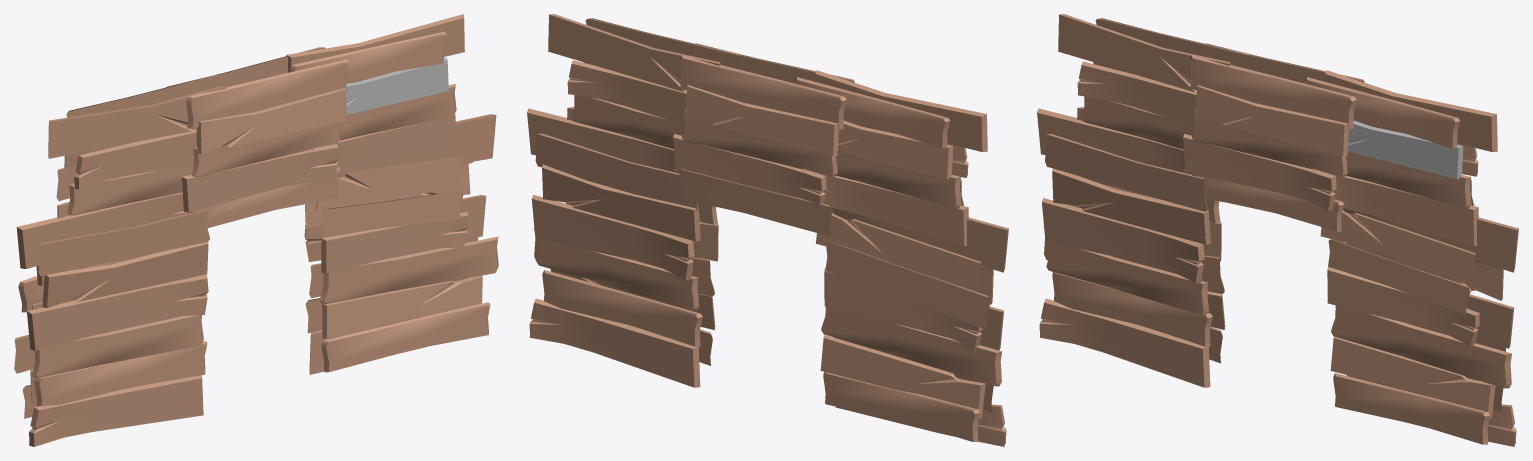
Rendered from ACT3_EntranceWall_fin.fbx.
3 renders of one model, left to right at view 1: azimuth 30°, elevation 25°; view 2: azimuth 150°, elevation 25°; view 3: azimuth 330°, elevation 25°, orthographic. The views are drawn at different scales.
Parts seen in each view (by area): view 1: Flank_Curve19, Flank_Curve20, Flank_Long61, Flank_Long58, Flank_Long60, Flank_Long57, Flank_SideBite17, Flank_SideBite21, Flank_SideBite18, Flank_Curve25, Flank_Long59, Flank_Long66 (+25 smaller); view 2: Flank_Curve27, Flank_Curve26, Flank_Long72, Flank_SideBite24, Flank_Long73, Flank_Long70, Flank_SideBite27, Flank_Long77, Flank_SideBite23, Flank_Long71, Flank_SideBite28, Flank_Long68 (+23 smaller); view 3: Flank_Curve20, Flank_Curve19, Flank_Long61, Flank_SideBite18, Flank_Long58, Flank_SideBite17, Flank_Long57, Flank_SideBite21, Flank_Curve25, Flank_Long66, Flank_Long60, Flank_SideBite22 (+24 smaller).
Part boxes in pixels (x1,y1,x2,y2): Flank_Curve19: (27, 274, 208, 350); Flank_Curve20: (29, 375, 203, 446); Flank_Long61: (319, 236, 498, 303); Flank_Long58: (38, 210, 209, 276); Flank_Long60: (321, 302, 490, 372); Flank_Long57: (32, 315, 203, 377); Flank_SideBite17: (42, 242, 208, 308); Flank_SideBite21: (48, 86, 226, 158); Flank_SideBite18: (322, 275, 482, 338); Flank_Curve25: (182, 144, 338, 212); Flank_Long59: (34, 341, 207, 406); Flank_Long66: (186, 59, 349, 128); Flank_Curve27: (529, 298, 700, 387); Flank_Curve26: (531, 195, 694, 279); Flank_Long72: (821, 306, 1002, 386); Flank_SideBite24: (820, 334, 985, 418); Flank_Long73: (825, 241, 990, 329); Flank_Long70: (542, 270, 702, 346); Flank_SideBite27: (548, 14, 720, 92); Flank_Long77: (679, 55, 846, 129); Flank_SideBite23: (542, 164, 700, 241); Flank_Long71: (823, 372, 980, 441); Flank_SideBite28: (685, 85, 838, 155); Flank_Long68: (536, 239, 699, 310); Flank_Curve20: (1039, 298, 1210, 387); Flank_Curve19: (1042, 198, 1204, 283); Flank_Long61: (1331, 305, 1511, 388); Flank_SideBite18: (1330, 336, 1495, 418); Flank_Long58: (1045, 134, 1207, 211); Flank_SideBite17: (1052, 168, 1210, 244); Flank_Long57: (1046, 242, 1208, 315); Flank_SideBite21: (1058, 14, 1230, 92); Flank_Curve25: (1183, 133, 1336, 210); Flank_Long66: (1189, 55, 1356, 129); Flank_Long60: (1333, 373, 1490, 444); Flank_SideBite22: (1195, 85, 1348, 155).
Size of the model in its own units: 12.92 by 8.49 by 1.46.
